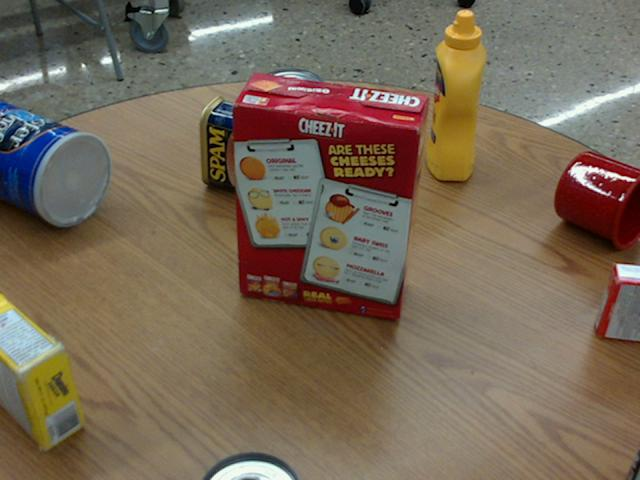cracker_box: (233, 72, 430, 317)
gelatin_box: (597, 266, 639, 343)
large_marker: (631, 458, 639, 479)
master_chef_can: (0, 97, 113, 225)
mug: (555, 151, 639, 249)
mustard_bottle: (427, 9, 487, 179)
potted_meat_can: (200, 94, 289, 197)
sugar_box: (0, 288, 85, 447)
tomato_soup_can: (204, 452, 302, 479)
tuna_fish_can: (260, 66, 325, 119)
